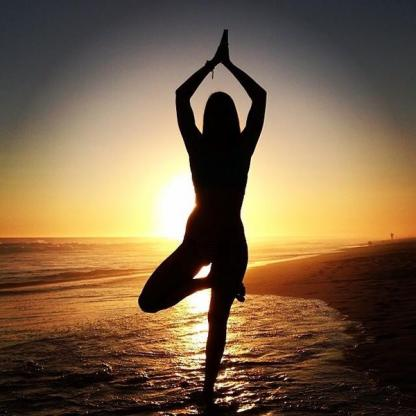tree: (127, 22, 274, 416)
